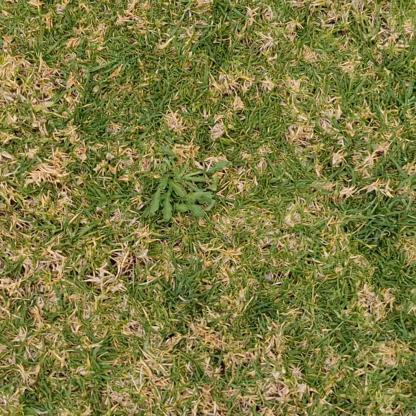Weeds: (149, 146, 230, 222)
